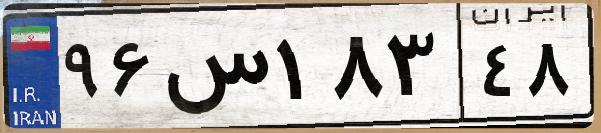1: (270, 28, 330, 110)
3: (385, 28, 445, 110)
4: (475, 38, 525, 113)
6: (110, 28, 158, 98)
8: (330, 28, 385, 110), (525, 38, 570, 115)
9: (57, 26, 110, 100)
س: (158, 20, 270, 120)
